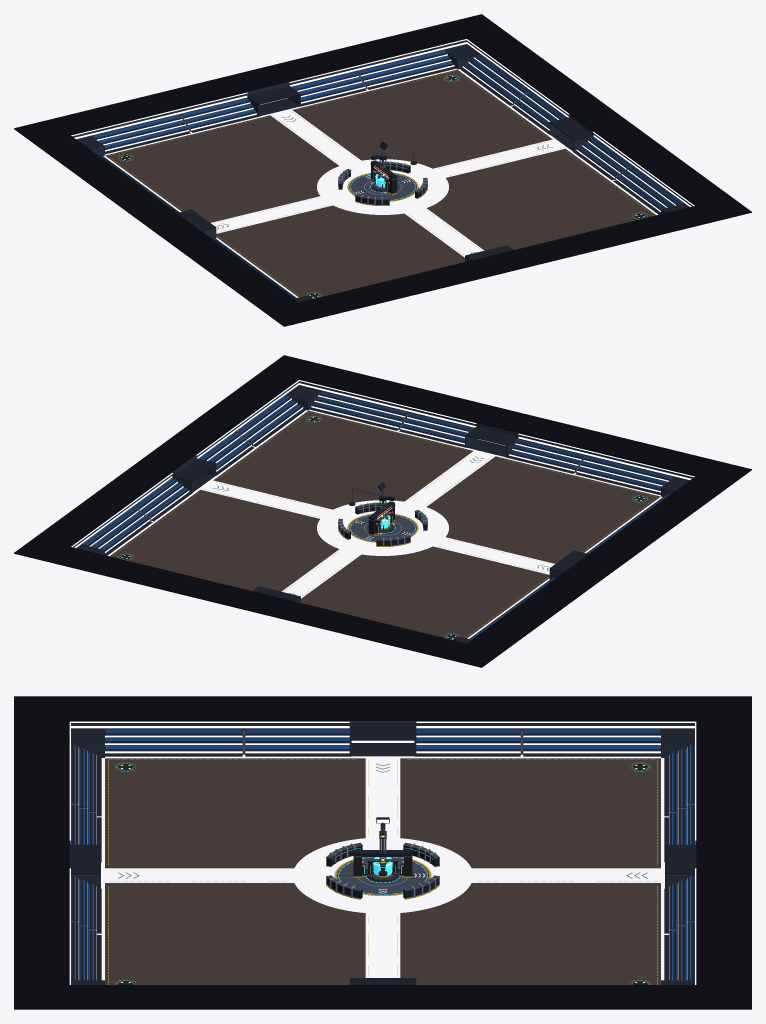
Rendered from core_siege.glb.
The picture shows the model from 3 angles, top to bottom: view 1: azimuth 30°, elevation 25°; view 2: azimuth 150°, elevation 25°; view 3: azimuth 270°, elevation 25°; orthographic projection. The views are drawn at different scales.
Visible parts, largest first — view 1: yard_floor, stands, plaza, fortress, markings; view 2: yard_floor, stands, plaza, fortress, markings; view 3: yard_floor, stands, fortress, plaza, markings, spawn_gate, markers.
Boxes of the visible parts, <box> form: yard_floor: <box>105,69,655,297</box>; stands: <box>14,14,751,326</box>; plaza: <box>347,172,418,201</box>; fortress: <box>338,161,427,205</box>; markings: <box>108,71,653,296</box>; yard_floor: <box>110,410,660,638</box>; stands: <box>14,355,751,667</box>; plaza: <box>347,513,418,542</box>; fortress: <box>338,502,427,546</box>; markings: <box>112,412,657,637</box>; yard_floor: <box>105,758,660,984</box>; stands: <box>14,696,751,1009</box>; fortress: <box>326,842,439,899</box>; plaza: <box>334,857,431,895</box>; markings: <box>108,759,657,984</box>; spawn_gate: <box>353,850,412,877</box>; markers: <box>115,762,650,984</box>.
Size of the model in its own units: 212 by 19.73 by 212.
